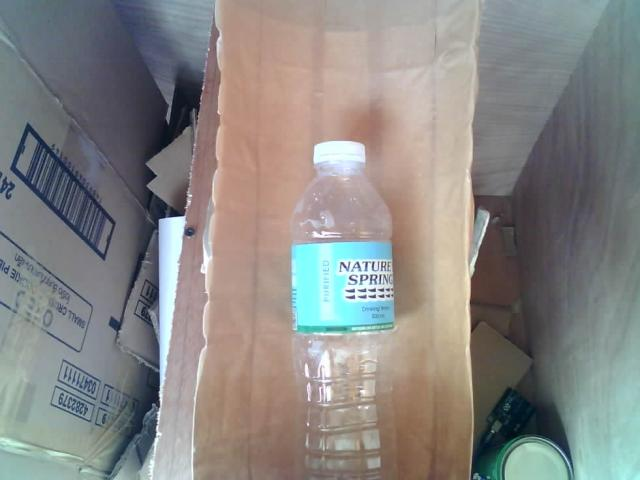small_bottle: (255, 138, 432, 480)
